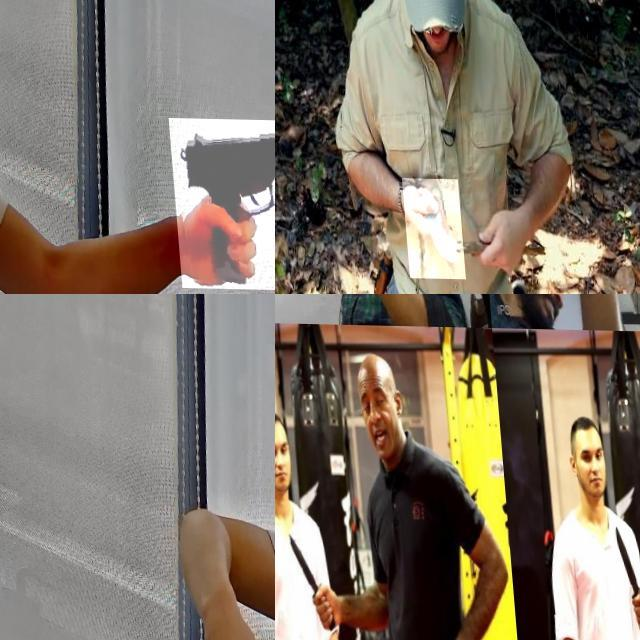-: (398, 177, 460, 278), (276, 528, 326, 632), (602, 518, 640, 637), (275, 294, 311, 332)
gun-knife-thesis - v11 Yolov5 augmented: (163, 116, 275, 289)
